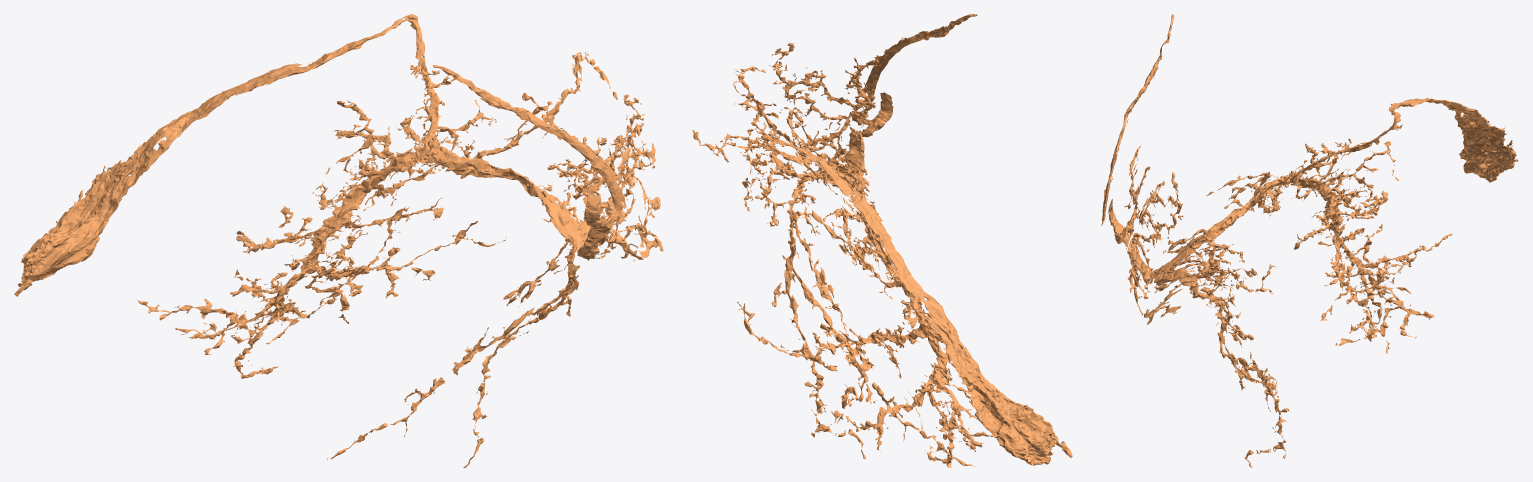
The model's file is VFB_fw036900.glb.
The picture shows the model from 3 angles, left to right: view 1: azimuth 30°, elevation 25°; view 2: azimuth 150°, elevation 25°; view 3: azimuth 270°, elevation 25°; orthographic projection. The views are drawn at different scales.
Parts seen in each view (by area): view 1: VFB_fw036900; view 2: VFB_fw036900; view 3: VFB_fw036900.
Part boxes in pixels (<box>): VFB_fw036900: <box>14,14,663,467</box>; VFB_fw036900: <box>692,14,1072,467</box>; VFB_fw036900: <box>1101,14,1518,467</box>.
Size of the model in its own units: 0.0822 by 0.0691 by 0.0623.
